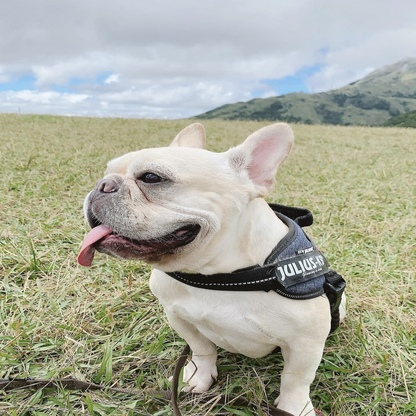bulldog: (74, 119, 348, 416)
